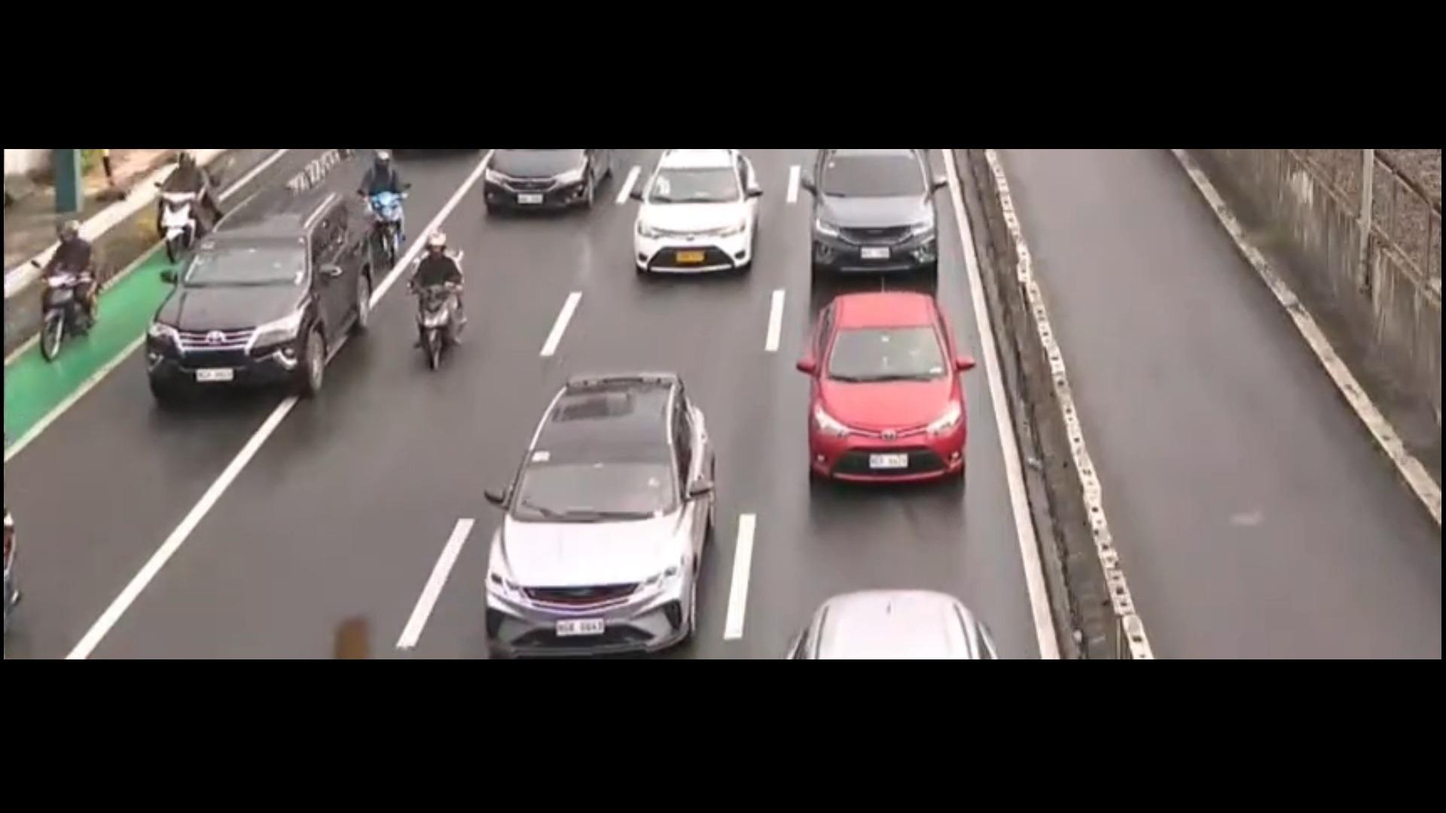Motorcycle: (26, 209, 107, 361), (143, 152, 215, 258), (412, 230, 461, 369), (373, 145, 405, 271)
SUV: (488, 384, 717, 642), (153, 188, 367, 391), (808, 141, 936, 282)
Sedan: (796, 280, 962, 487), (640, 152, 759, 288), (473, 154, 614, 211)
